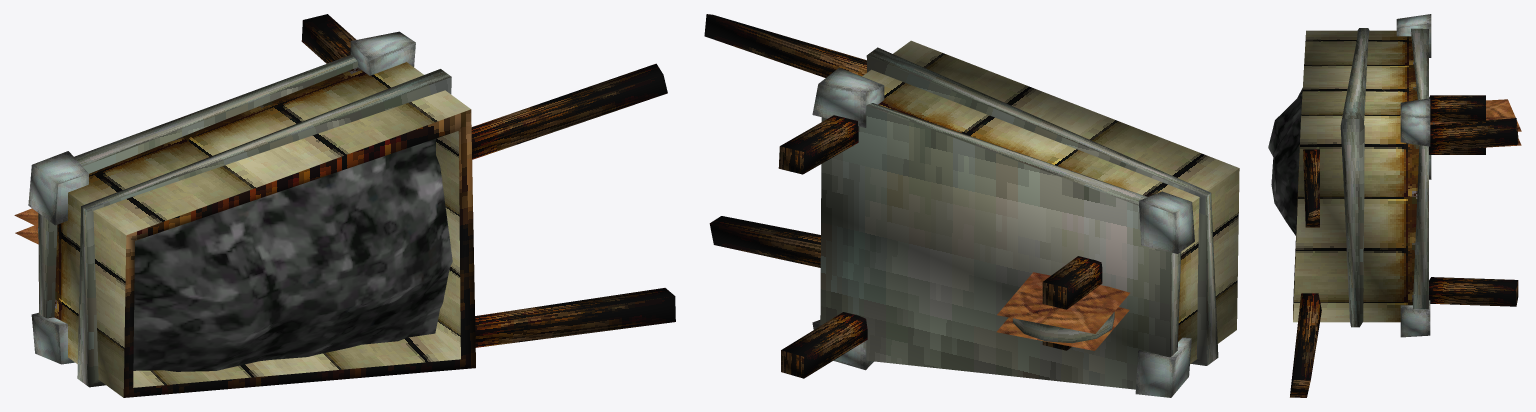
Rendered from INST_SWORDLIGHT_WHLBRRWORE.fbx.
3 views of the same model, side by side, from view 1: azimuth 30°, elevation 25°; view 2: azimuth 150°, elevation 25°; view 3: azimuth 270°, elevation 25° (orthographic). The views are drawn at different scales.
Visible parts, largest first — view 1: INST_SWORDLIGHT_WHLBRRWORE; view 2: INST_SWORDLIGHT_WHLBRRWORE; view 3: INST_SWORDLIGHT_WHLBRRWORE.
Part boxes in pixels (x1=…): INST_SWORDLIGHT_WHLBRRWORE: x1=14, y1=14, x2=675, y2=397; INST_SWORDLIGHT_WHLBRRWORE: x1=704, y1=14, x2=1239, y2=397; INST_SWORDLIGHT_WHLBRRWORE: x1=1268, y1=14, x2=1521, y2=397.
Size of the model in its own units: 18830 by 9246 by 9546.
6 materials, 6 textured.
